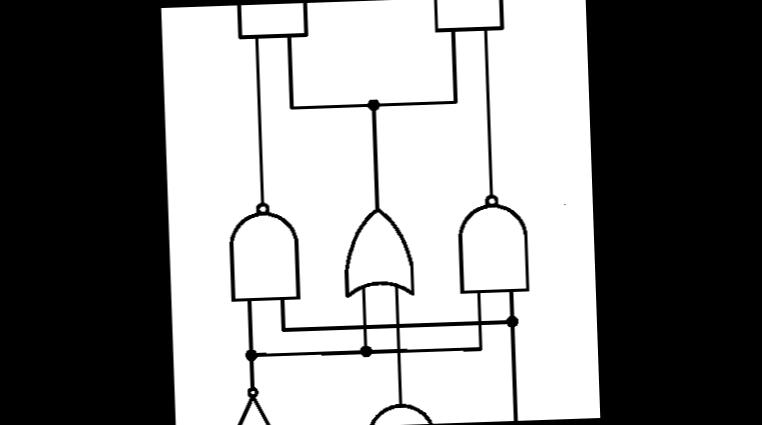and: (232, 2, 314, 42), (428, 0, 507, 34), (360, 395, 441, 425)
nand: (450, 186, 535, 298), (222, 194, 304, 305)
not: (220, 379, 285, 425)
or: (336, 198, 420, 300)
